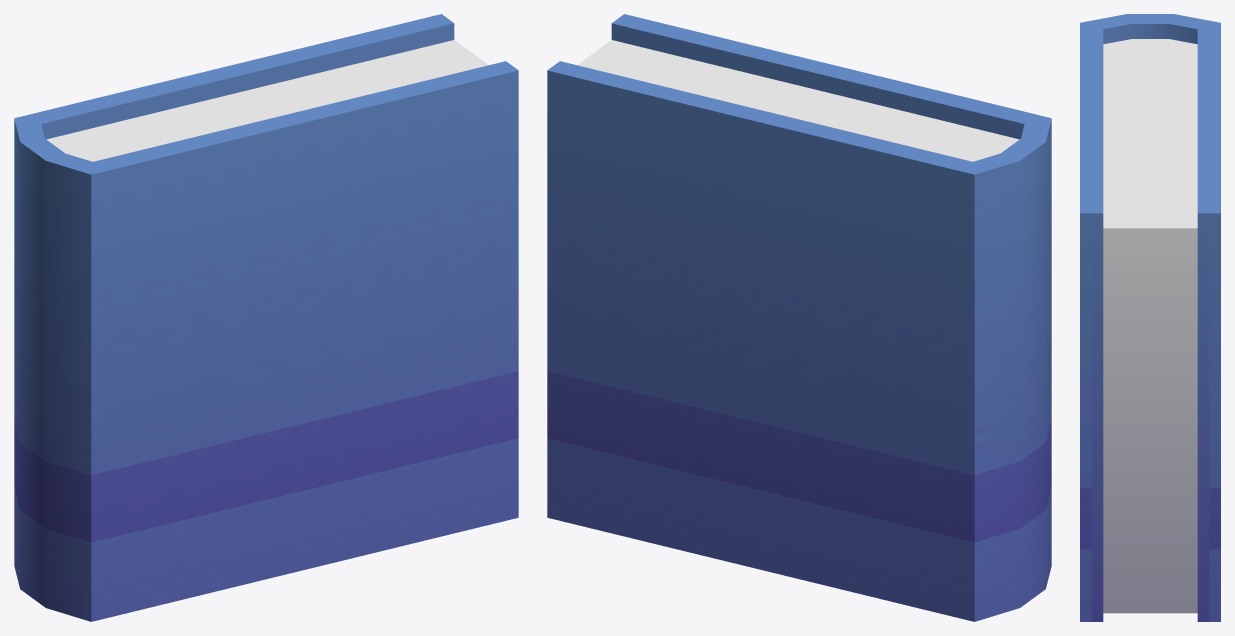
File: book-3.fbx
3 renders of one model, left to right at view 1: azimuth 30°, elevation 25°; view 2: azimuth 150°, elevation 25°; view 3: azimuth 270°, elevation 25°, orthographic. The views are drawn at different scales.
Visible parts, largest first — view 1: book-3; view 2: book-3; view 3: book-3.
Part boxes in pixels (box(x1,y1,x2,y2)): book-3: box(14, 14, 518, 621); book-3: box(547, 14, 1051, 621); book-3: box(1080, 14, 1220, 621).
Bounding box in the file's own units: 0.1293 × 0.0386 × 0.1236.
